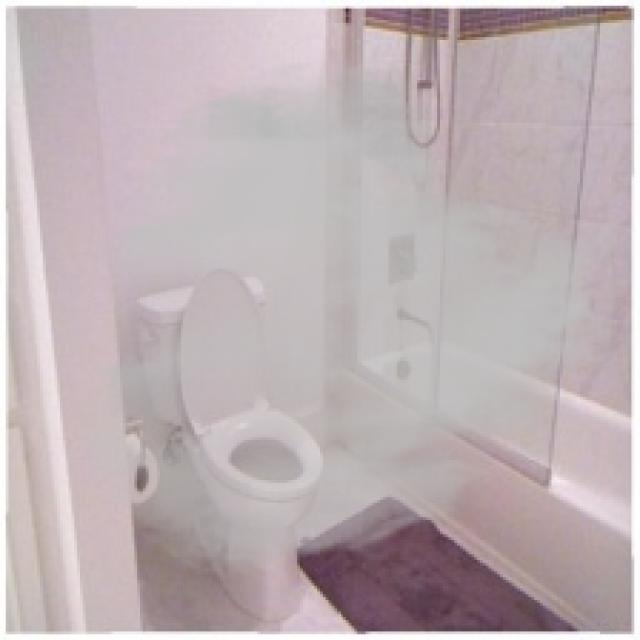smoke: (69, 54, 628, 580)
